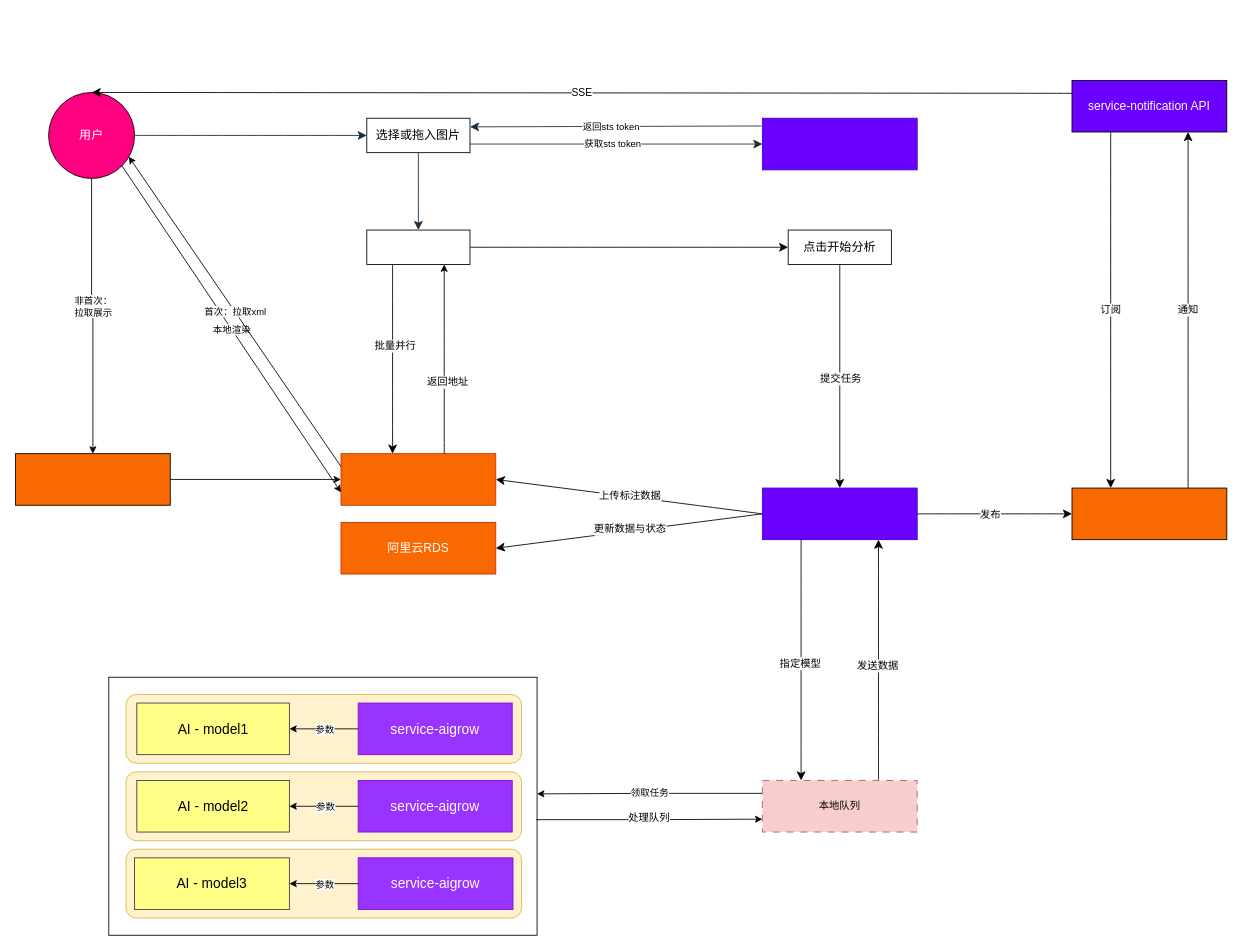
This 1242x950 diagram has some shape labels left out. The centre of each missing label's shape, as x and y in pixels:
"service-cms API" goes at pixel 839 143.
"service-titan API" goes at pixel 839 513.
"点击上传图片" goes at pixel 418 246.
"阿里云CDN" goes at pixel 92 479.
"阿里云OSS" goes at pixel 418 479.
"阿里云Redis" goes at pixel 1149 513.
